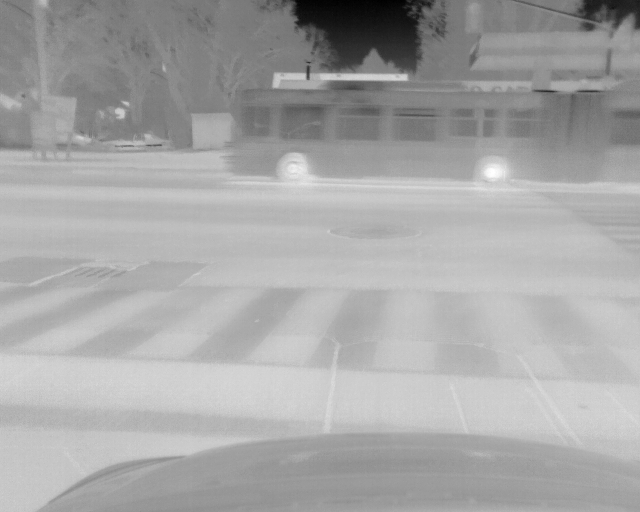car: (225, 82, 609, 188)
